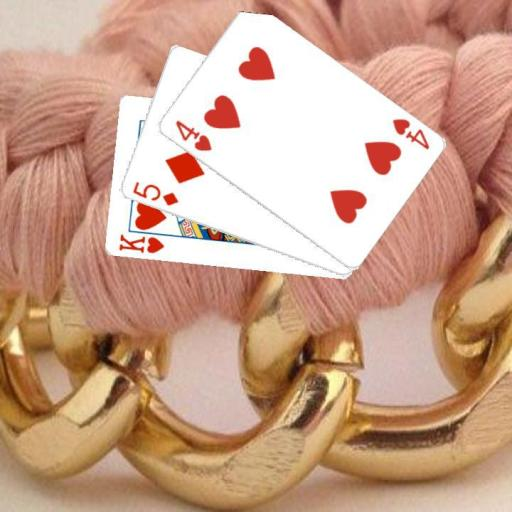4H: (388, 115, 431, 152), (172, 117, 214, 153)
5D: (129, 179, 180, 208)
KH: (115, 231, 165, 255)
